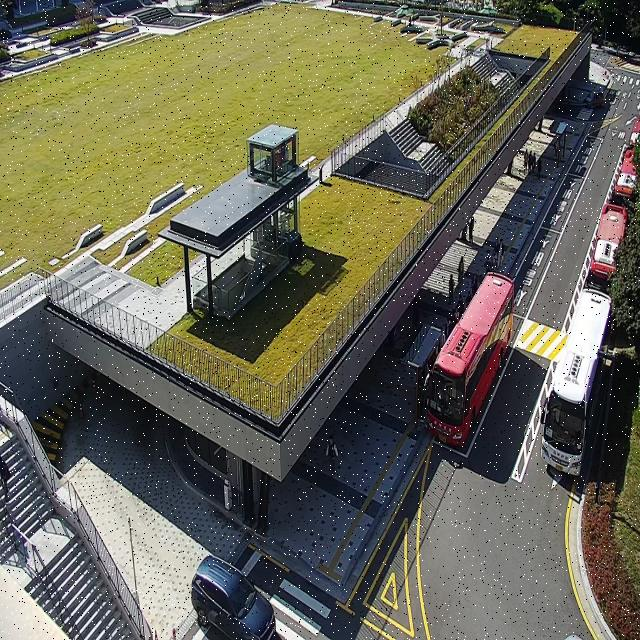queue: (415, 235, 504, 432)
